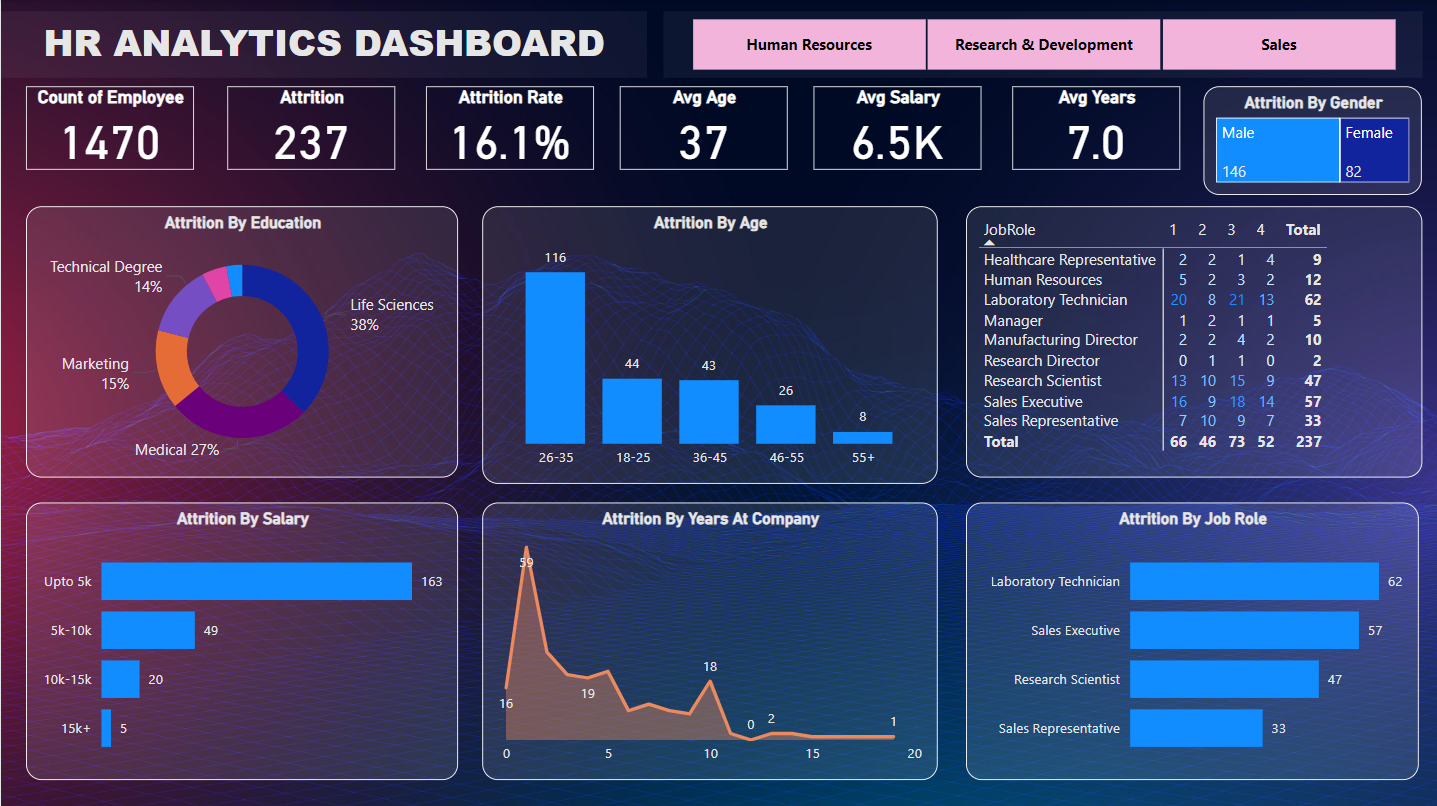

The page's visual inventory and layout, read from the dashboard file:
{"tool":"powerbi","page":{"name":"Page 1","canvas":[1280,720],"ordinal":0},"visuals":[{"type":"card","title":"Count of Employee","fields":{"Values":["CountNonNull(HR_Analytics.EmpID)"]},"box":[21.7,77.2,149.6,74.8],"z":0},{"type":"card","title":"Attrition","fields":{"Values":["Sum(HR_Analytics.attcount)"]},"box":[201.5,77.2,149.6,74.8],"z":1000},{"type":"card","title":"Attrition Rate","fields":{"Values":["HR_Analytics.attrate"]},"box":[378.8,77.2,149.6,74.8],"z":2000},{"type":"card","title":"Avg Age","fields":{"Values":["Avg(HR_Analytics.Age)"]},"box":[551.3,77.2,149.6,74.8],"z":3000},{"type":"card","title":"Avg Salary","fields":{"Values":["Avg(HR_Analytics.MonthlyIncome)"]},"box":[723.9,77.2,149.6,74.8],"z":4000},{"type":"card","title":"Avg Years","fields":{"Values":["Avg(HR_Analytics.YearsAtCompany)"]},"box":[900,77.2,149.6,74.8],"z":5000},{"type":"donutChart","title":"Attrition By Education","fields":{"Category":["HR_Analytics.EducationField"],"Y":["Sum(HR_Analytics.attcount)"]},"box":[21.7,183.4,384.9,241.3],"z":6000},{"type":"columnChart","title":"Attrition By Age","fields":{"Category":["HR_Analytics.AgeGroup"],"Y":["Sum(HR_Analytics.attcount)"]},"box":[428.3,183.4,405.4,247.3],"z":7000},{"type":"pivotTable","fields":{"Rows":["HR_Analytics.JobRole"],"Columns":["HR_Analytics.JobSatisfaction"],"Values":["Sum(HR_Analytics.attcount)"]},"box":[859,183.4,406.6,241.3],"z":8000},{"type":"barChart","title":"Attrition By Salary","fields":{"Category":["HR_Analytics.SalarySlab"],"Y":["Sum(HR_Analytics.attcount)"]},"box":[21.7,447.6,384.9,247.3],"z":9000},{"type":"barChart","title":"Attrition By Job Role","fields":{"Category":["HR_Analytics.JobRole"],"Y":["Sum(HR_Analytics.attcount)"]},"box":[859,447.6,403,247.3],"z":10000},{"type":"areaChart","title":"Attrition By Years At Company","fields":{"Category":["HR_Analytics.YearsAtCompany"],"Y":["Sum(HR_Analytics.attcount)"]},"box":[428.3,447.6,405.4,247.3],"z":11000},{"type":"treemap","title":"Attrition By Gender","fields":{"Group":["HR_Analytics.Gender"],"Values":["Sum(HR_Analytics.attcount)"]},"box":[1071.3,77.2,194.2,96.5],"z":11001},{"type":"slicer","fields":{"Values":["HR_Analytics.Department"]},"box":[589.9,9.7,675.6,59.1],"z":11002},{"type":"textbox","box":[0,9.7,575.5,59.1],"z":11003}]}

Visuals, with their boxes in screenshot pixels (x1, y1, x2, y2), scaled from the page's 1280x720 canvas onto the 1437x806 screenshot:
"Count of Employee" card: (x1=24, y1=86, x2=192, y2=170)
"Attrition" card: (x1=226, y1=86, x2=394, y2=170)
"Attrition Rate" card: (x1=425, y1=86, x2=593, y2=170)
"Avg Age" card: (x1=619, y1=86, x2=787, y2=170)
"Avg Salary" card: (x1=813, y1=86, x2=981, y2=170)
"Avg Years" card: (x1=1010, y1=86, x2=1178, y2=170)
"Attrition By Education" donutChart: (x1=24, y1=205, x2=456, y2=475)
"Attrition By Age" columnChart: (x1=481, y1=205, x2=936, y2=482)
pivotTable - HR_Analytics.JobRole x HR_Analytics.JobSatisfaction: (x1=964, y1=205, x2=1421, y2=475)
"Attrition By Salary" barChart: (x1=24, y1=501, x2=456, y2=778)
"Attrition By Job Role" barChart: (x1=964, y1=501, x2=1417, y2=778)
"Attrition By Years At Company" areaChart: (x1=481, y1=501, x2=936, y2=778)
"Attrition By Gender" treemap: (x1=1203, y1=86, x2=1421, y2=194)
slicer - HR_Analytics.Department: (x1=662, y1=11, x2=1421, y2=77)
textbox: (x1=0, y1=11, x2=646, y2=77)
